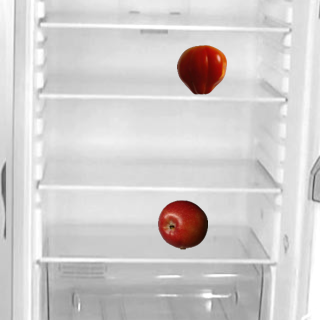Apple Braeburn: (157, 199, 207, 249)
Tomato 1: (176, 44, 226, 94)
